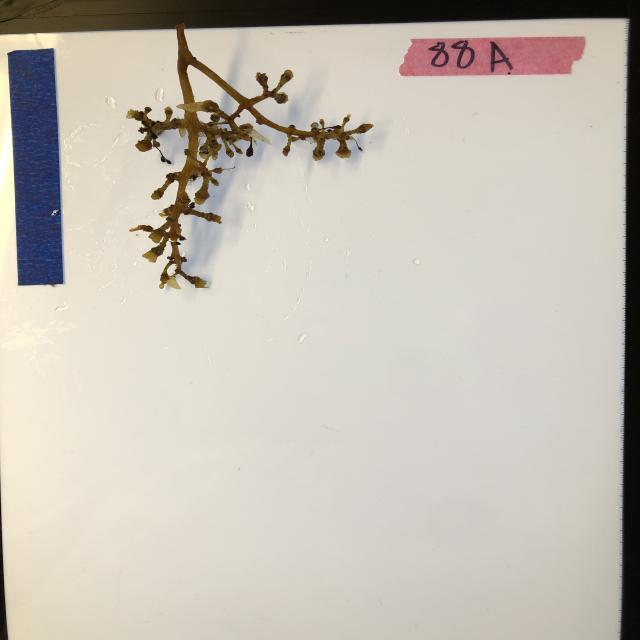index: (398, 34, 587, 76)
measure_label: (8, 48, 67, 288)
rachis_cluster: (124, 22, 378, 292)
